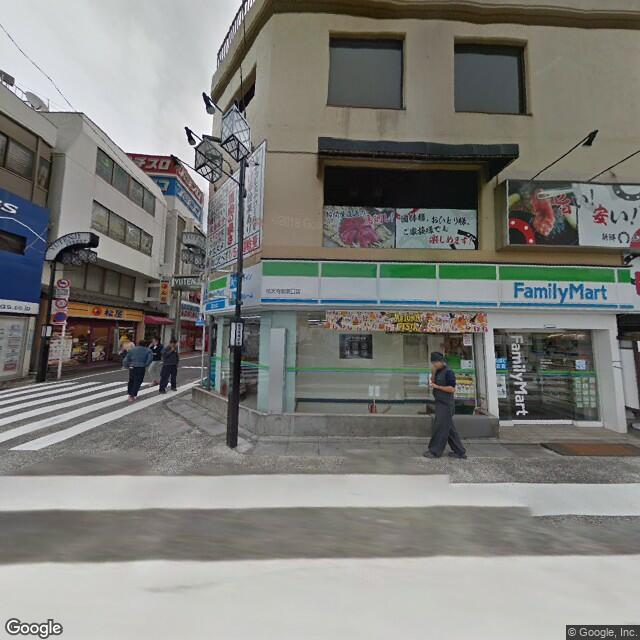family_mart: (259, 257, 635, 312), (204, 272, 231, 311)
